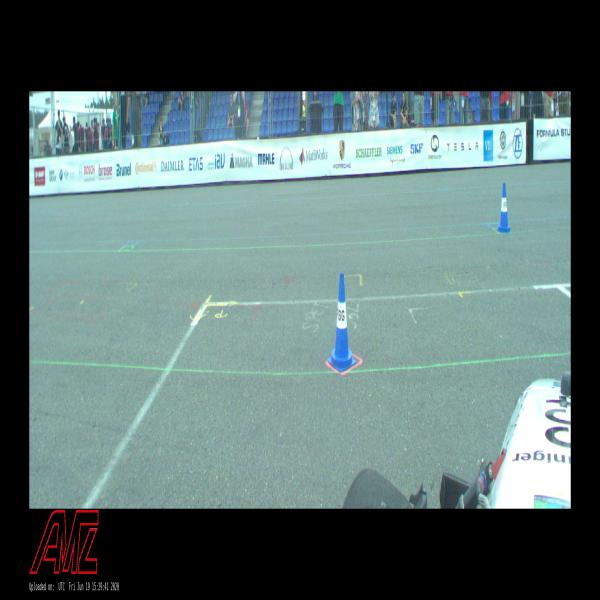blue_cone: (328, 273, 356, 372), (497, 182, 511, 232)
